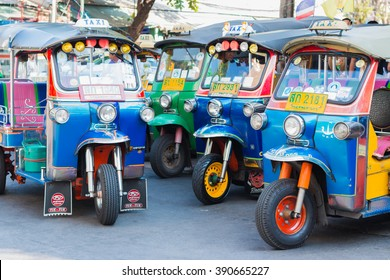threewheel: (249, 18, 390, 250), (1, 17, 154, 225), (183, 23, 278, 204), (144, 36, 207, 177)
